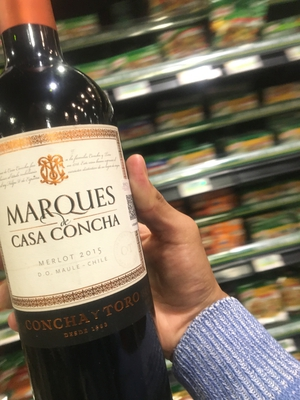marques de casa concha merlot: (2, 32, 154, 376)
